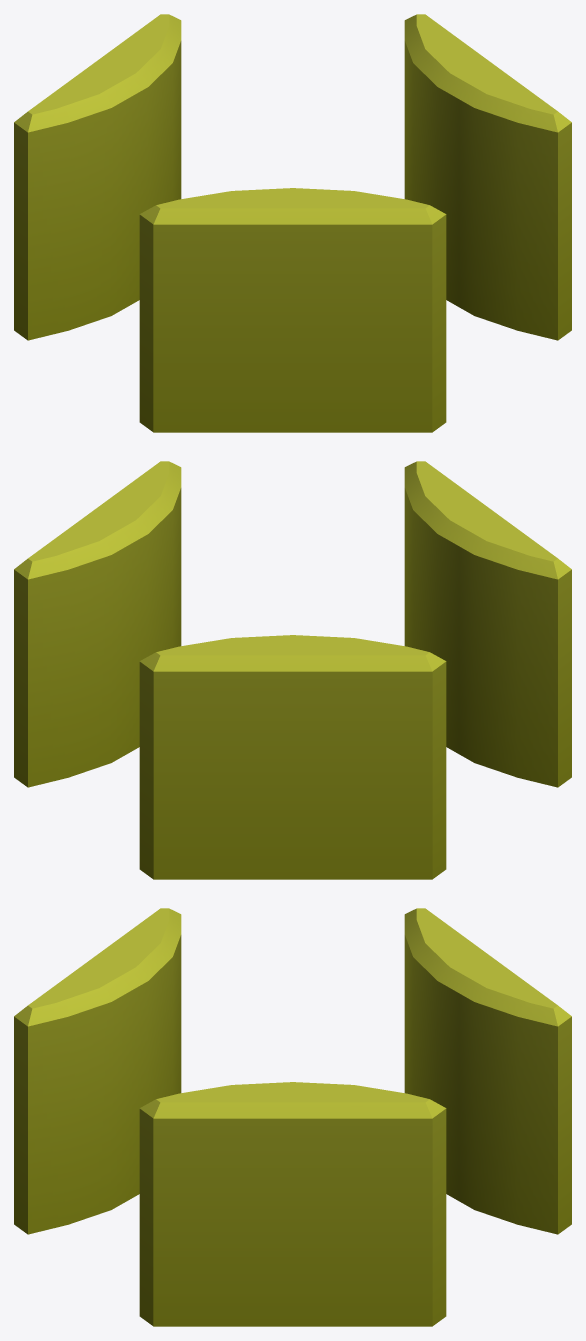
The model's file is hex_river_d_waterless.glb.
3 views of the same model, one above another, from view 1: azimuth 30°, elevation 25°; view 2: azimuth 150°, elevation 25°; view 3: azimuth 270°, elevation 25° (orthographic).
Parts seen in each view (by area): view 1: hex_river_D_waterless; view 2: hex_river_D_waterless; view 3: hex_river_D_waterless.
Boxes of the visible parts, x1,y1,x2,y2 form: hex_river_D_waterless: (14,14,571,432); hex_river_D_waterless: (14,461,571,879); hex_river_D_waterless: (14,908,571,1326).
Size of the model in its own units: 2 by 1 by 2.31.
1 material, 1 textured.
